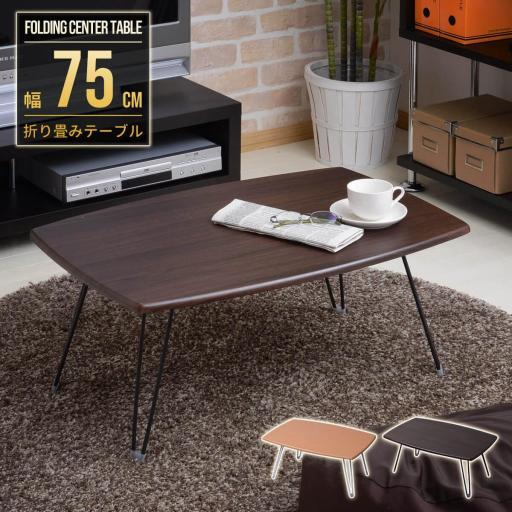table: (26, 163, 471, 415)
